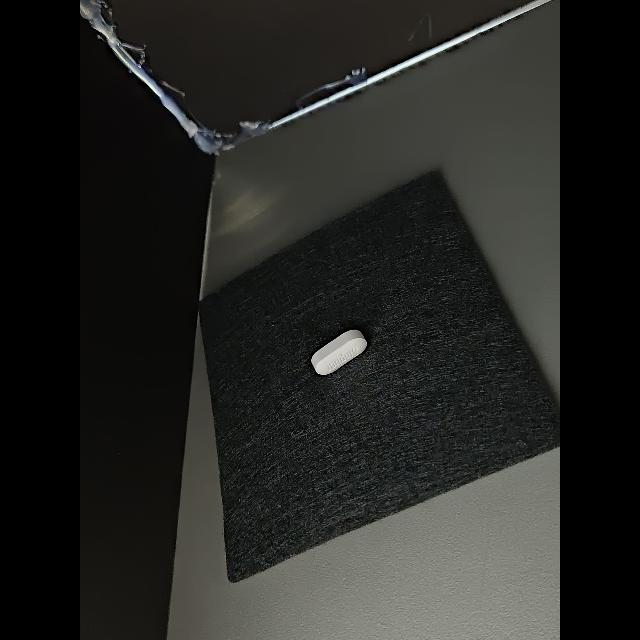Intact Pill: (311, 330, 367, 375)
